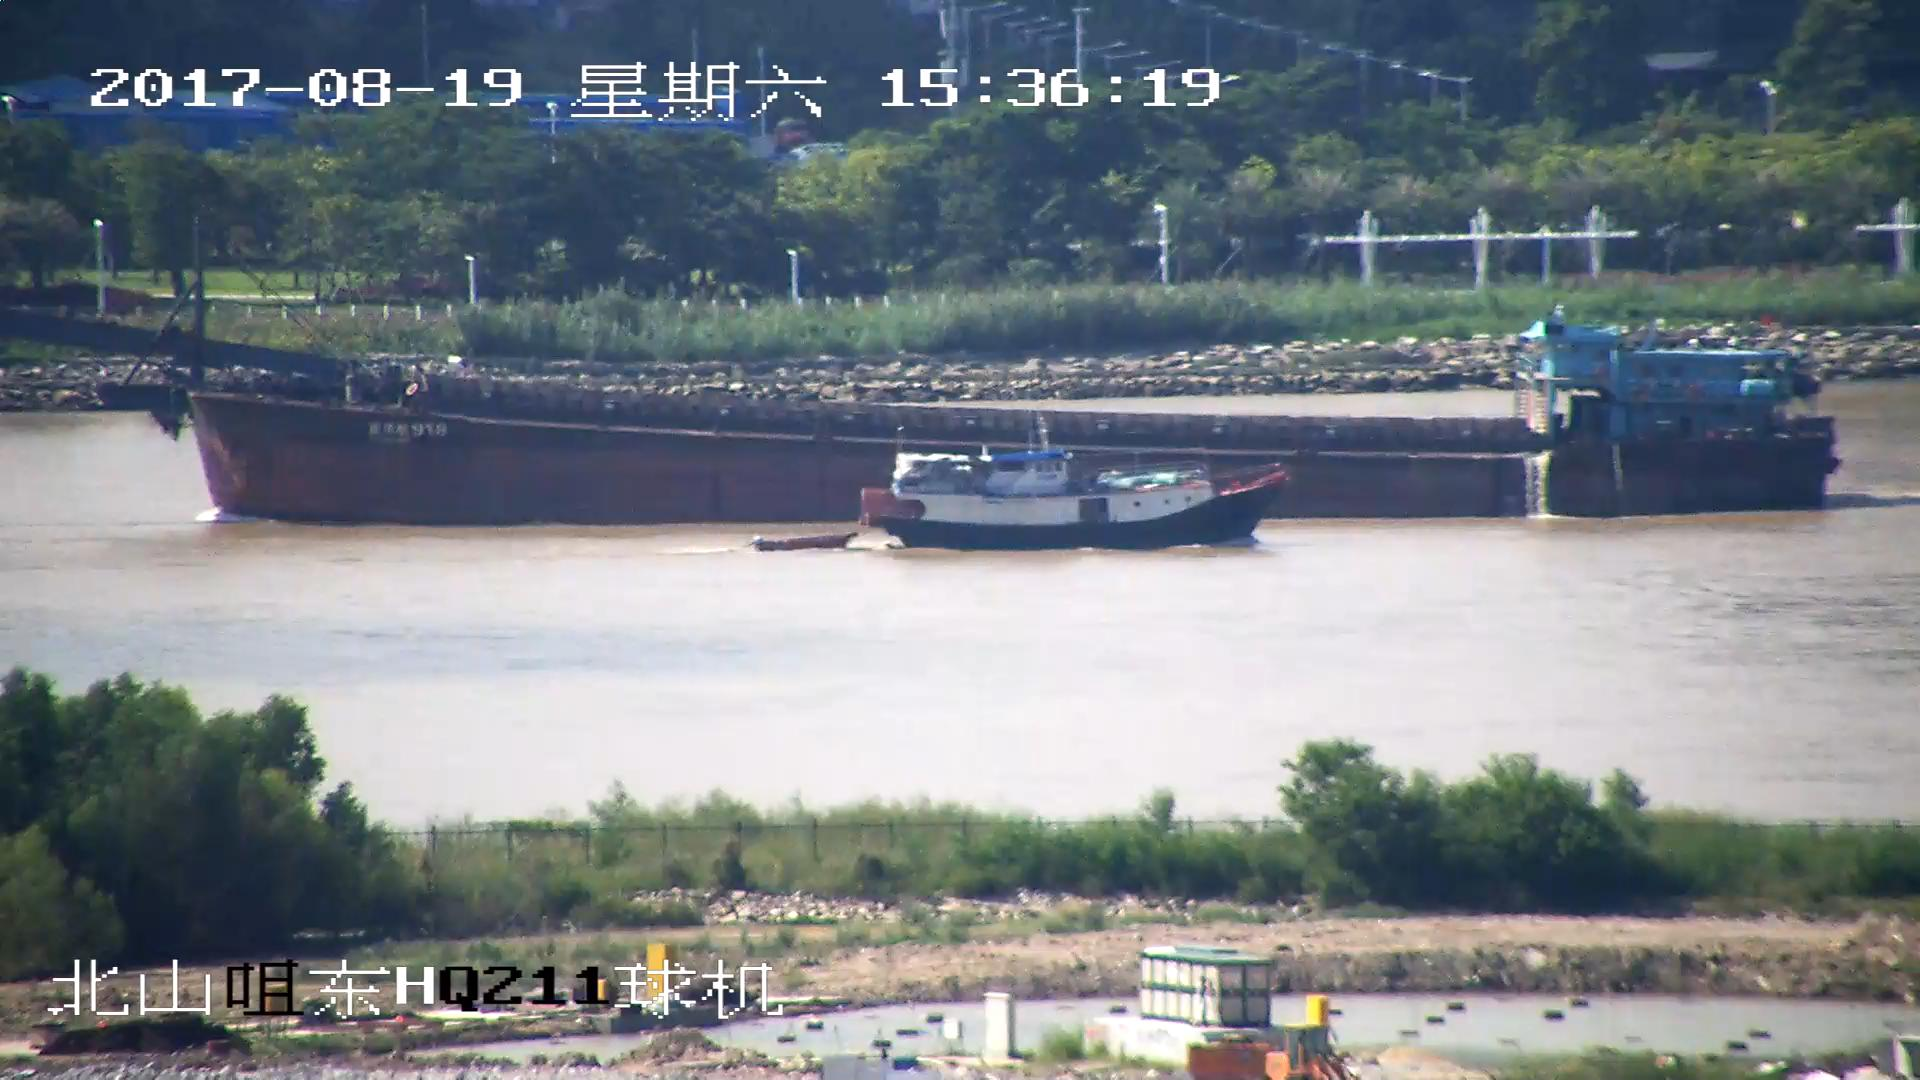bulk cargo carrier: (1, 311, 1837, 518)
fishing boat: (747, 452, 1288, 552)
